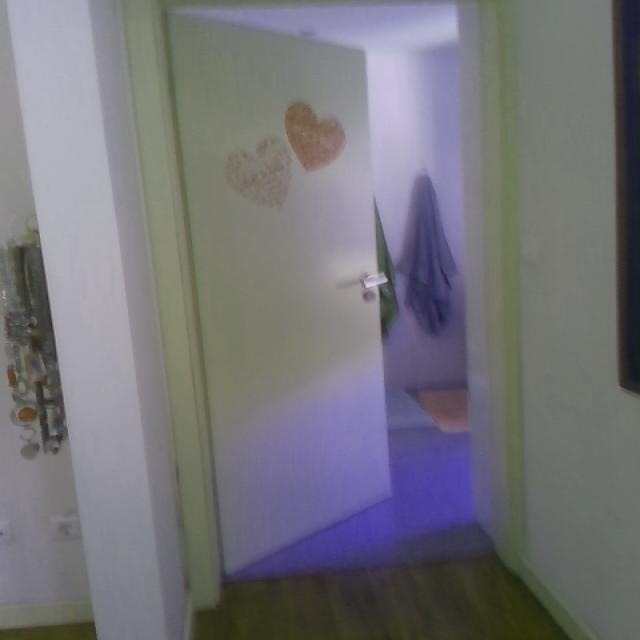door: (162, 10, 396, 578)
